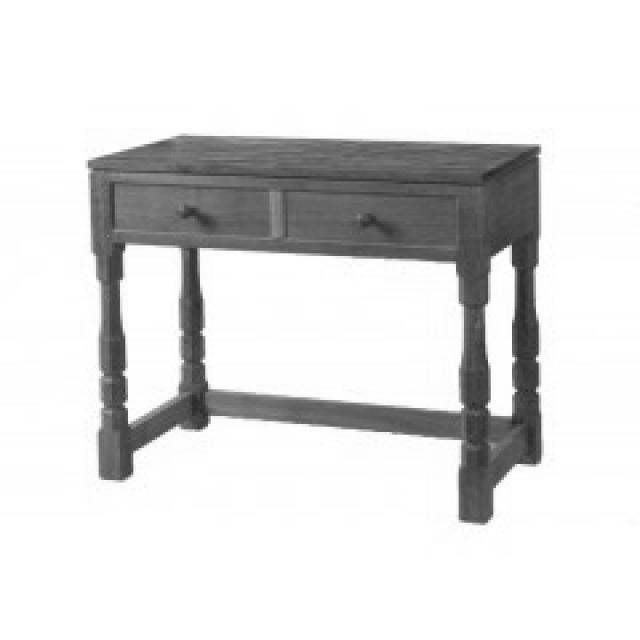table: (86, 132, 542, 522)
